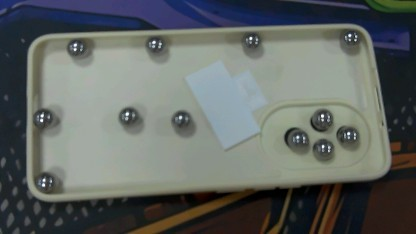ironball: (238, 26, 265, 54), (115, 101, 141, 128), (312, 136, 336, 164), (34, 167, 57, 196), (32, 105, 57, 131), (286, 124, 311, 150), (143, 31, 165, 58), (336, 125, 360, 147), (64, 36, 85, 61), (168, 109, 192, 130), (311, 107, 335, 127), (341, 26, 359, 47)
